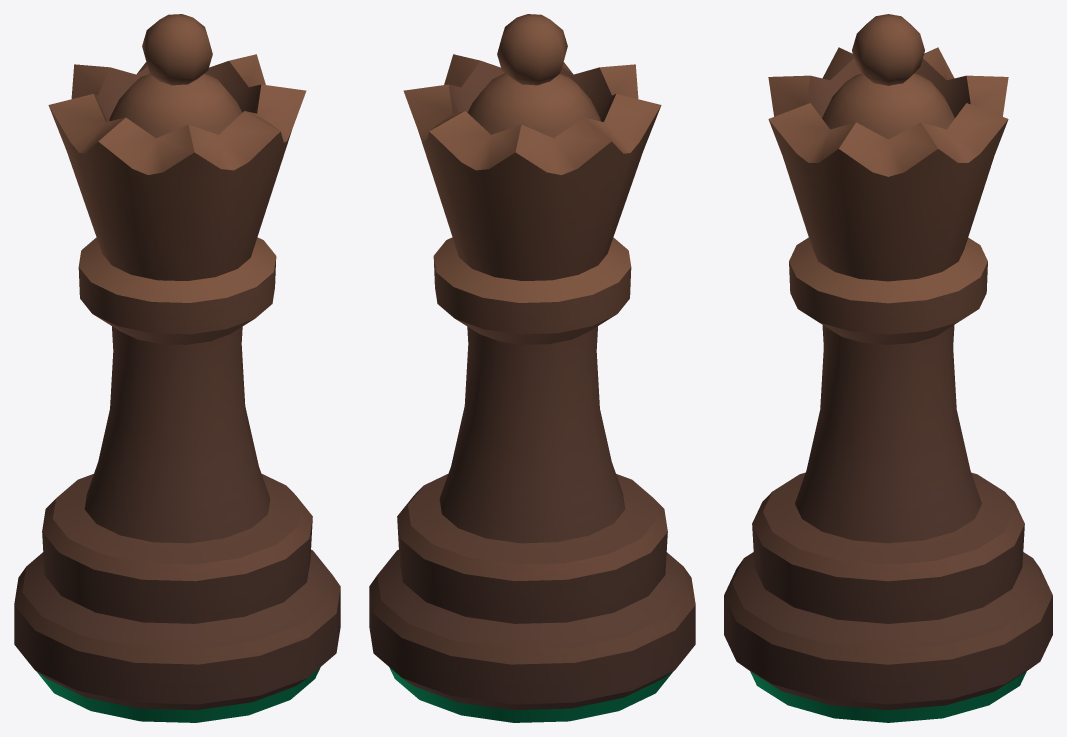
The model's file is chess_black_queen.obj.
3 views of the same model, side by side, from view 1: azimuth 30°, elevation 25°; view 2: azimuth 150°, elevation 25°; view 3: azimuth 270°, elevation 25° (orthographic).
Parts seen in each view (by area): view 1: chess_black_queen; view 2: chess_black_queen; view 3: chess_black_queen.
Boxes of the visible parts, left/top/right/bottom form: chess_black_queen: left=14, top=14, right=340, bottom=722; chess_black_queen: left=369, top=14, right=695, bottom=722; chess_black_queen: left=724, top=14, right=1052, bottom=722.
Size of the model in its own units: 0.75 by 1.62 by 0.75.
1 material, 1 textured.
